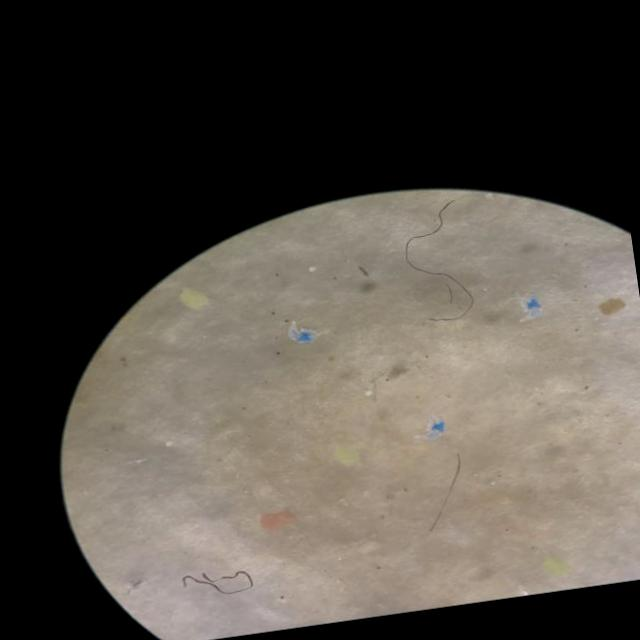fiber: (404, 200, 474, 320), (429, 453, 460, 532), (182, 569, 254, 595)
film: (288, 322, 315, 343), (525, 297, 541, 318), (426, 421, 445, 438)
fragment: (260, 509, 295, 531), (180, 289, 208, 309), (543, 557, 569, 577), (334, 446, 359, 466), (599, 297, 625, 316)
pellet: (165, 442, 173, 447), (365, 390, 371, 395), (309, 266, 314, 271)
